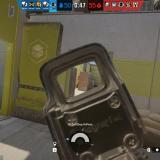Character: (77, 75, 80, 88)
Head: (78, 75, 80, 77)
